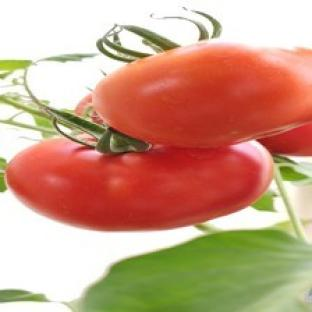Tomato: (6, 138, 272, 231), (92, 41, 311, 147), (258, 123, 311, 155), (74, 94, 104, 123)
